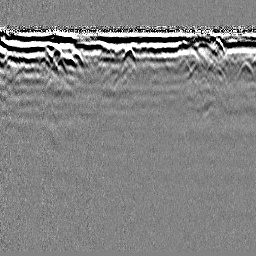cavity: (120, 46, 136, 62)
